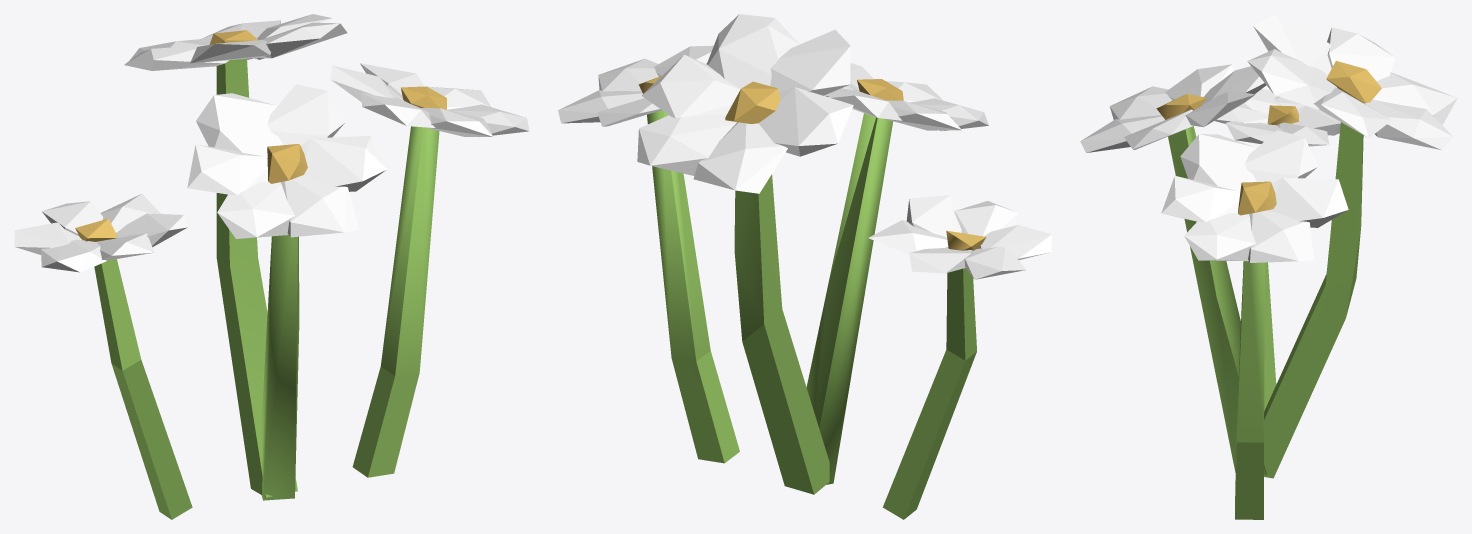
The model's file is Flower_05.fbx.
The picture shows the model from 3 angles, left to right: view 1: azimuth 30°, elevation 25°; view 2: azimuth 150°, elevation 25°; view 3: azimuth 270°, elevation 25°; orthographic projection. The views are drawn at different scales.
Visible parts, largest first — view 1: Flower_05; view 2: Flower_05; view 3: Flower_05.
Boxes of the visible parts, box(x1,y1,x2,y2) form: Flower_05: box(14, 14, 529, 519); Flower_05: box(558, 14, 1051, 519); Flower_05: box(1080, 14, 1457, 519).
Bounding box in the file's own units: 0.3454 × 0.3216 × 0.2524.
